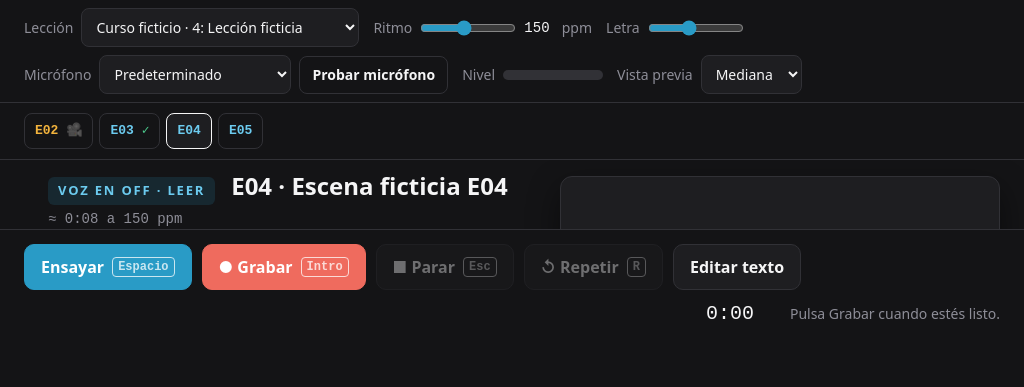
Teleprompter: aviso con el micrófono que se abre de verdad › sin nombre del predeterminado, avisa con la pista que se ha abierto al volver a él
Select "Wireless microphone" in the dropdown labelled "Micrófono" at x=195, y=74, box x1=99 y1=55 x2=291 y2=94
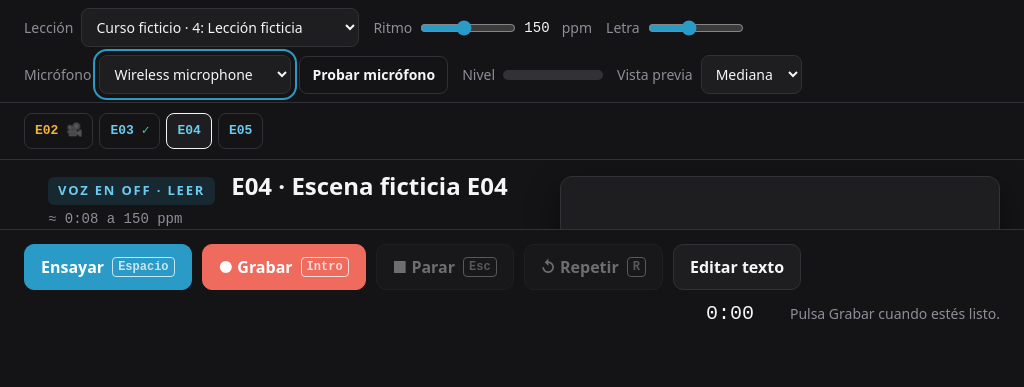
Click the button "Probar micrófono" at x=374, y=74, box x1=299 y1=56 x2=448 y2=94
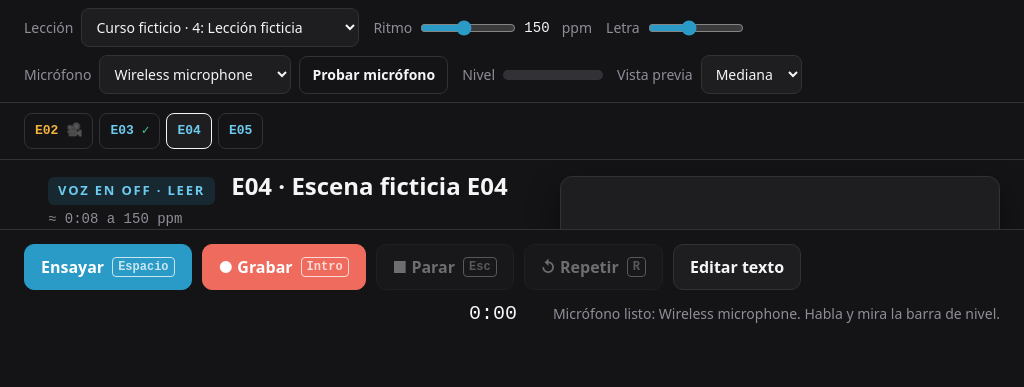
Expected: the text "Vas a grabar con el micrófono del portátil" is not shown
Expected: the text "Micrófono listo: Wireless microphone. Habla y mira la barra de nivel." is shown, x1=553 y1=304 x2=1000 y2=324
Select "Predeterminado" in the dropdown labelled "Micrófono" at x=195, y=74, box x1=99 y1=55 x2=291 y2=94
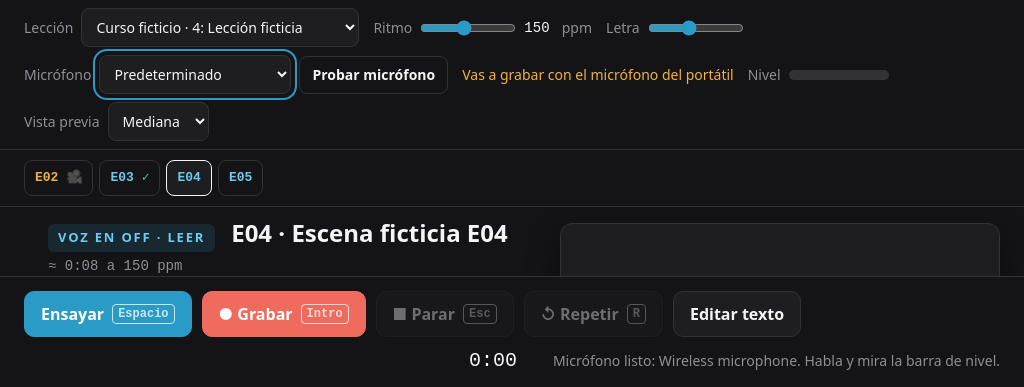
Expected: the text "Vas a grabar con el micrófono del portátil" is shown, x1=462 y1=64 x2=734 y2=84
